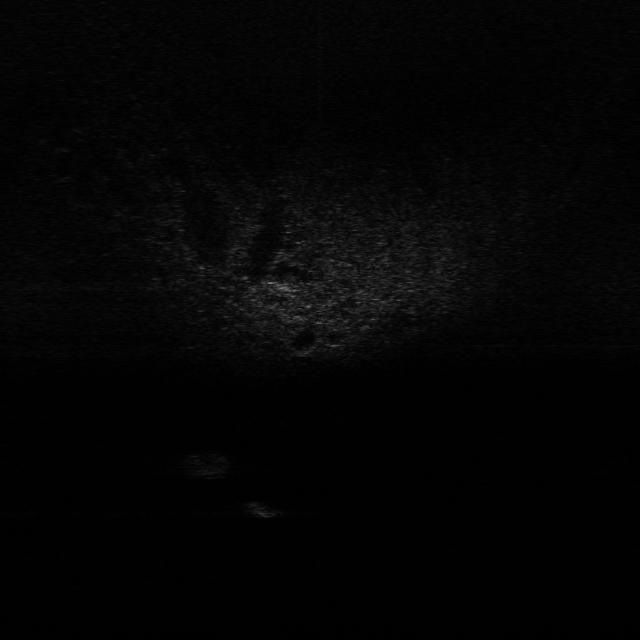circle cage: (171, 450, 227, 479)
cylinder: (244, 499, 278, 519)
